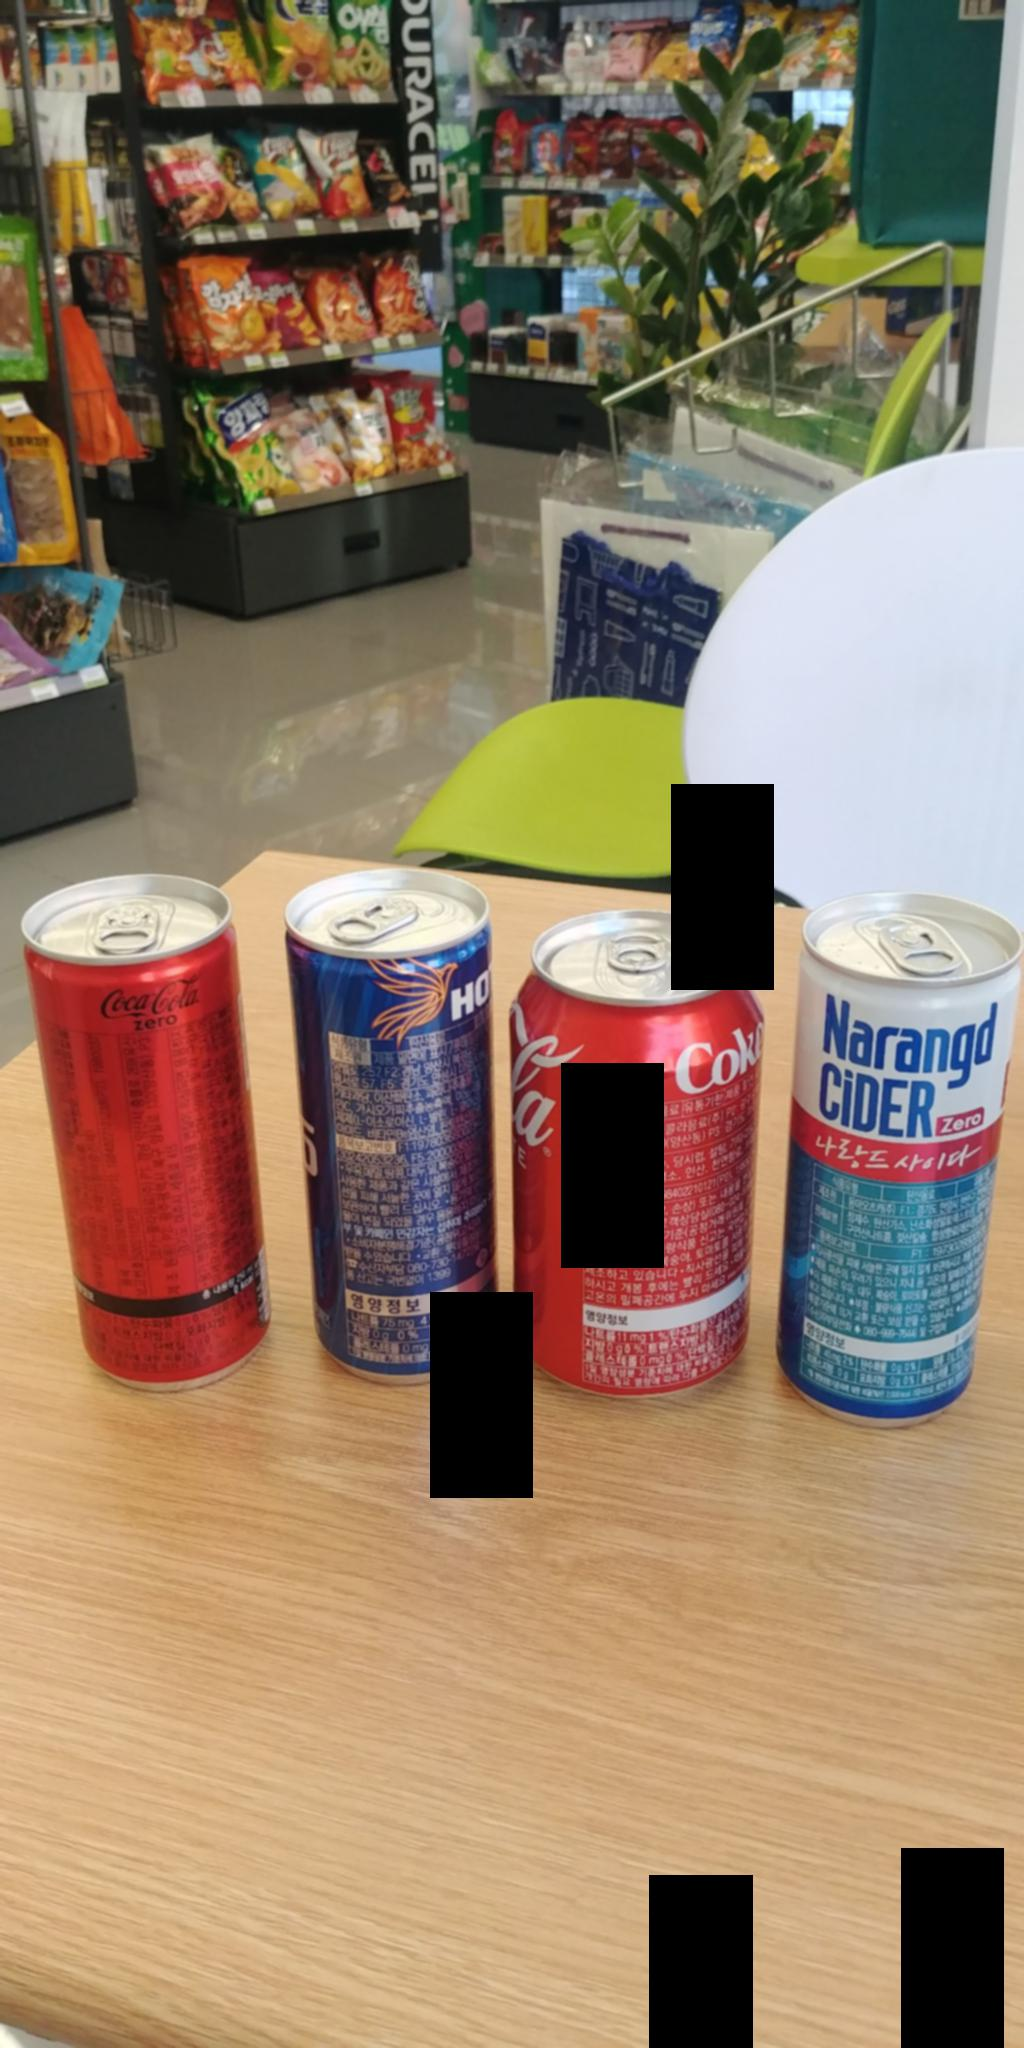cocacola: (513, 901, 772, 1394)
hotsix_org: (268, 871, 522, 1404)
narangdcider: (785, 876, 1024, 1409)
